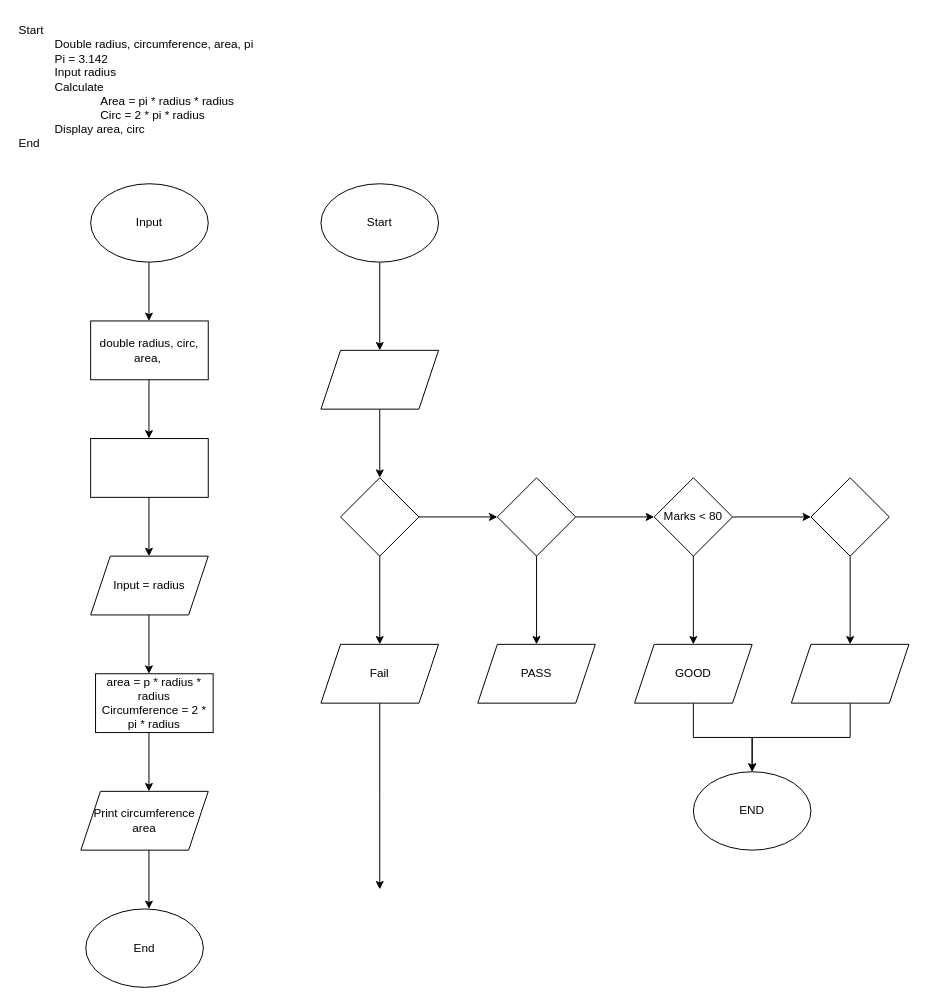
The diagram is 926 pixels wide and 1005 high, and some of its shapes have lost their labels. The centre of each missing label's shape, as x and y in pixels:
"EXCELLENT" belongs at [849,673].
"Marks" belongs at [379,379].
"Marks < 50" belongs at [379,516].
"Marks < 70" belongs at [536,516].
"Marks > 80" belongs at [849,516].
"pi = 3.142" belongs at [149,467].
